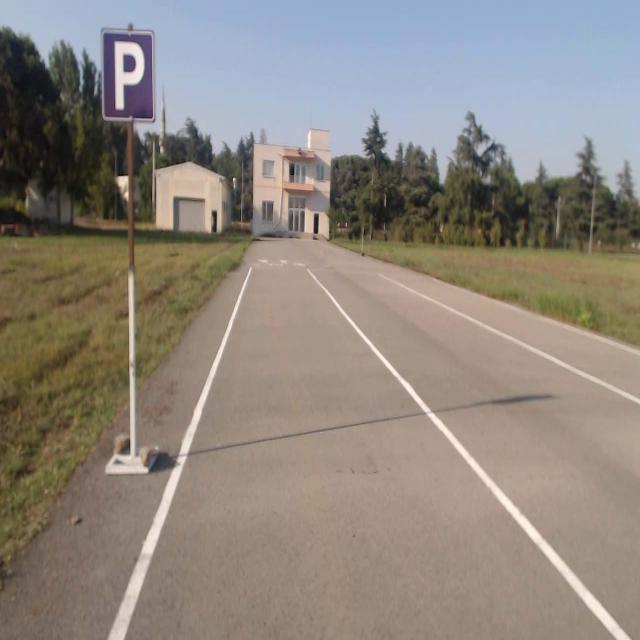park: (101, 28, 155, 121)
